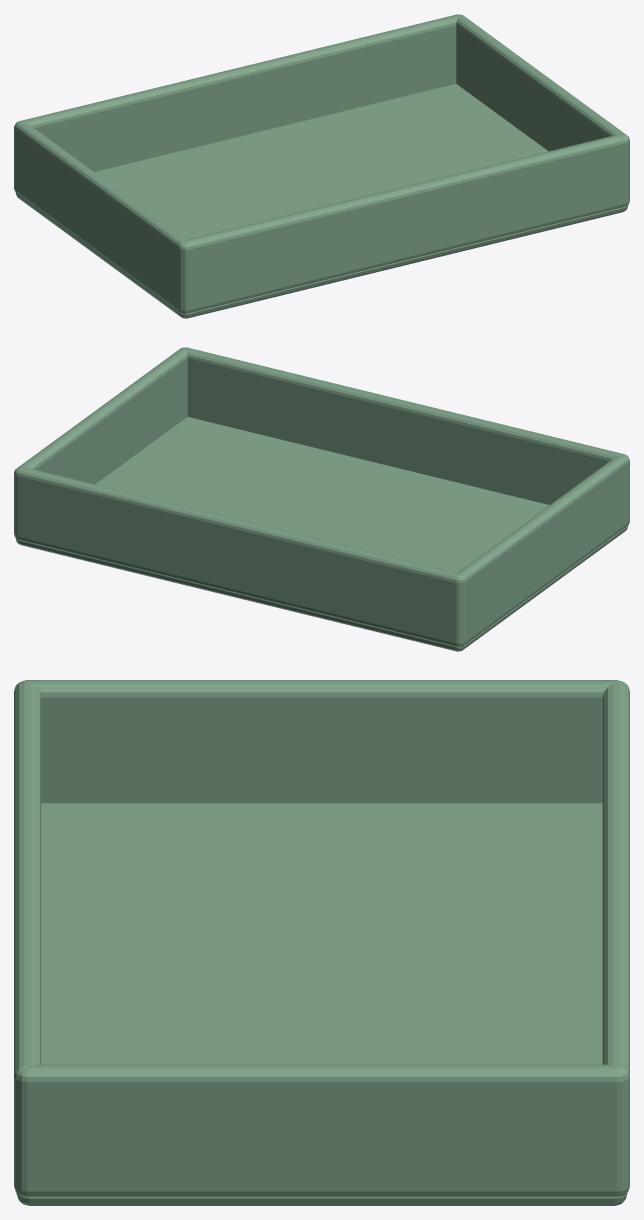
Rendered from short-shot.glb.
3 views of the same model, one above another, from view 1: azimuth 30°, elevation 25°; view 2: azimuth 150°, elevation 25°; view 3: azimuth 270°, elevation 25° (orthographic). The views are drawn at different scales.
Parts seen in each view (by area): view 1: Tray base, Tray base.001; view 2: Tray base, Tray base.001; view 3: Tray base, Tray base.001.
Boxes of the visible parts, <box> form: Tray base: <box>14,14,629,318</box>; Tray base.001: <box>20,38,627,238</box>; Tray base: <box>14,347,629,651</box>; Tray base.001: <box>71,348,617,650</box>; Tray base: <box>14,680,629,1205</box>; Tray base.001: <box>18,681,629,1205</box>.
Size of the model in its own units: 5.83 by 0.95 by 3.83.
